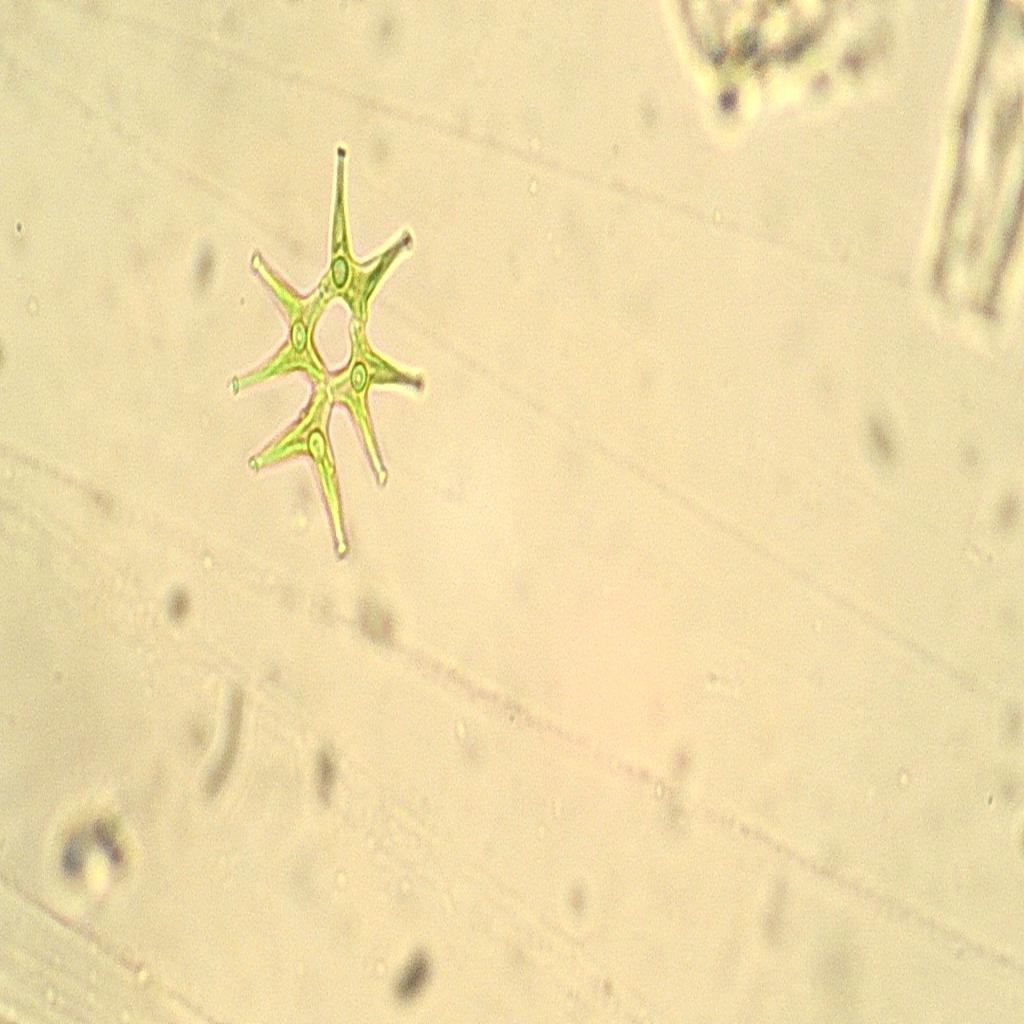Pediastrum_75FI: (217, 105, 441, 598)
